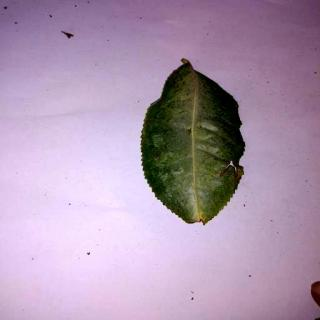Anthracnose: (144, 60, 247, 228)
